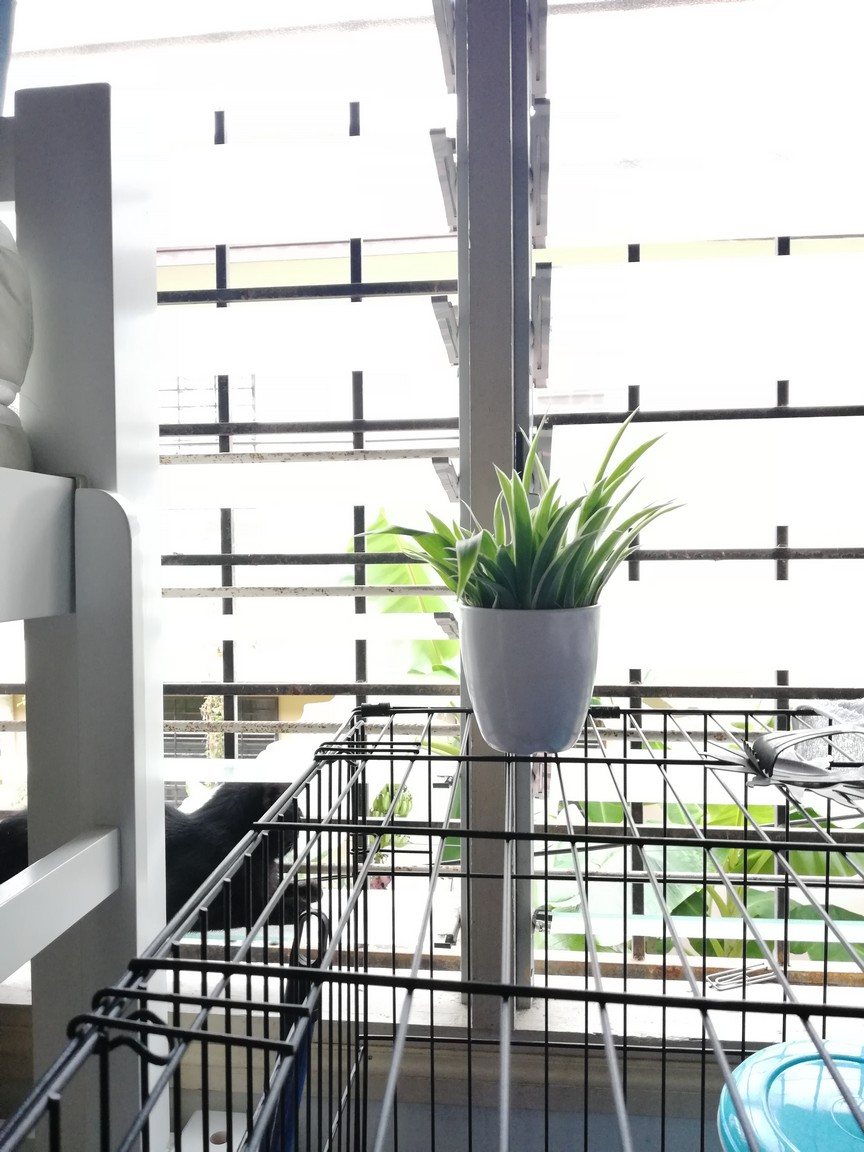daun: (455, 539, 482, 607), (351, 524, 426, 548), (624, 429, 671, 463), (633, 502, 690, 530), (612, 402, 645, 443), (510, 465, 532, 526), (532, 402, 554, 459), (491, 460, 511, 516), (394, 542, 435, 569), (457, 495, 482, 531), (424, 508, 451, 540), (518, 423, 537, 466), (626, 476, 646, 506), (636, 503, 672, 518), (589, 476, 610, 501), (611, 465, 640, 483), (564, 493, 590, 513), (620, 543, 645, 562), (448, 514, 465, 541), (543, 471, 561, 496), (440, 555, 461, 568), (551, 493, 566, 510)
